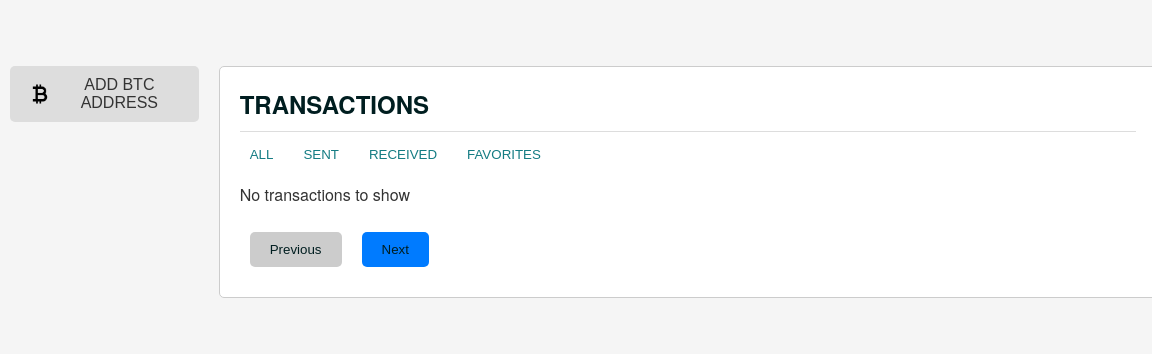
Dashboard Component › displays error message when data fetch fails
The image size is (1152, 354).
Click the button "ADD BTC ADDRESS": (104, 94) top-left (10, 66), bottom-right (199, 122)
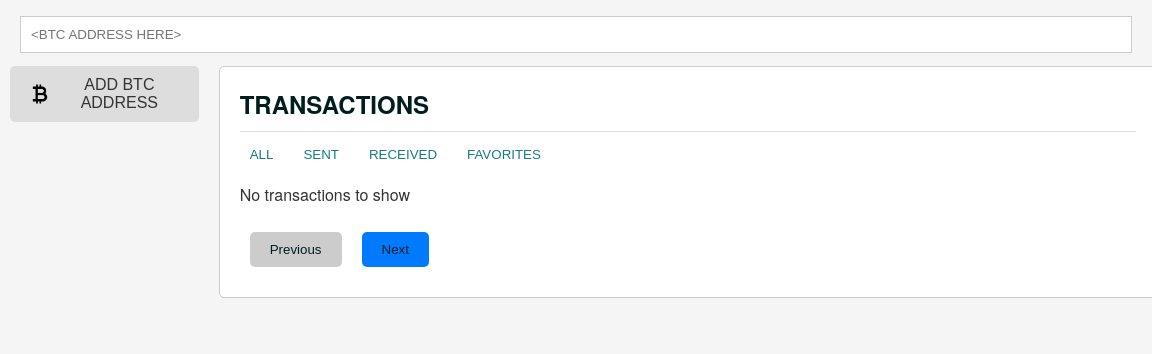
In the field with placeholder "<BTC ADDRESS HERE>": (576, 34) top-left (20, 16), bottom-right (1132, 53), type "some-bitcoin-address"
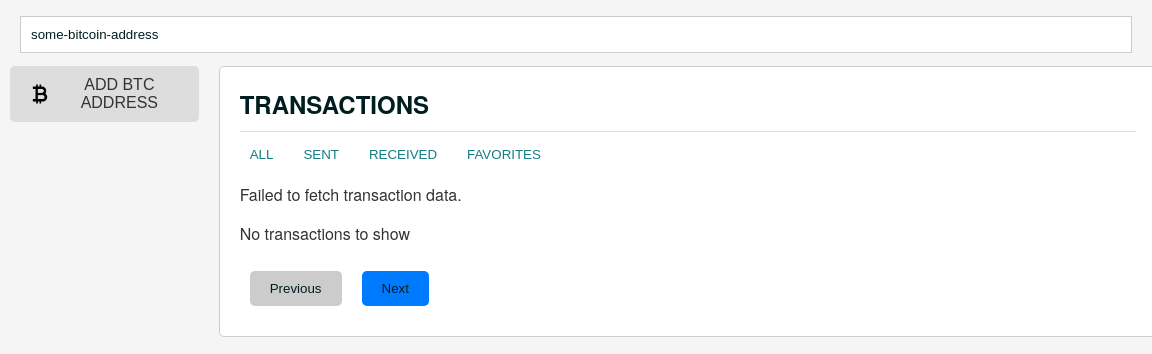
Expected: the text "Failed to fetch transaction data." is shown, top-left (240, 183), bottom-right (462, 206)
